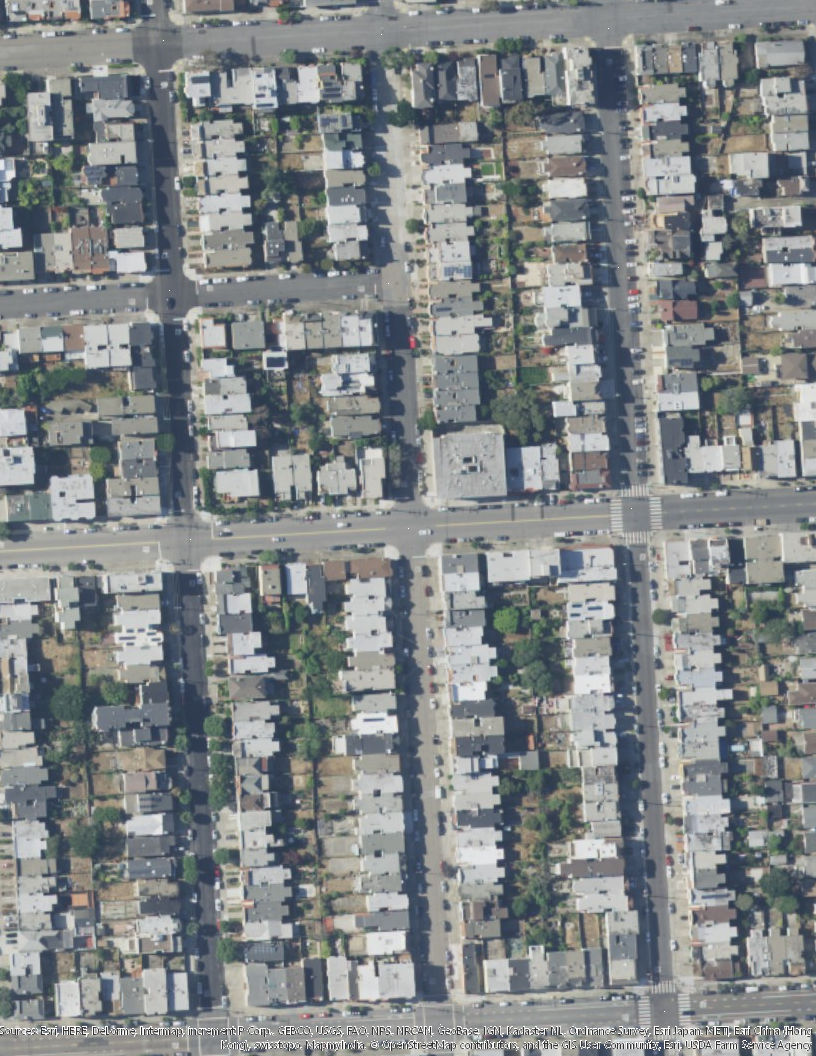zebracross: (651, 977, 677, 995), (650, 495, 663, 530), (610, 498, 623, 532), (638, 996, 651, 1028), (679, 994, 691, 1026), (625, 531, 651, 545), (621, 485, 651, 496)
